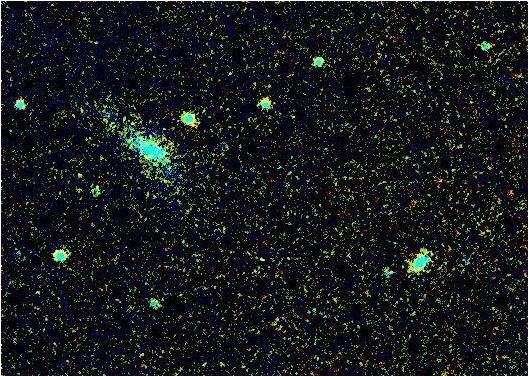star: (245, 242, 275, 272)
